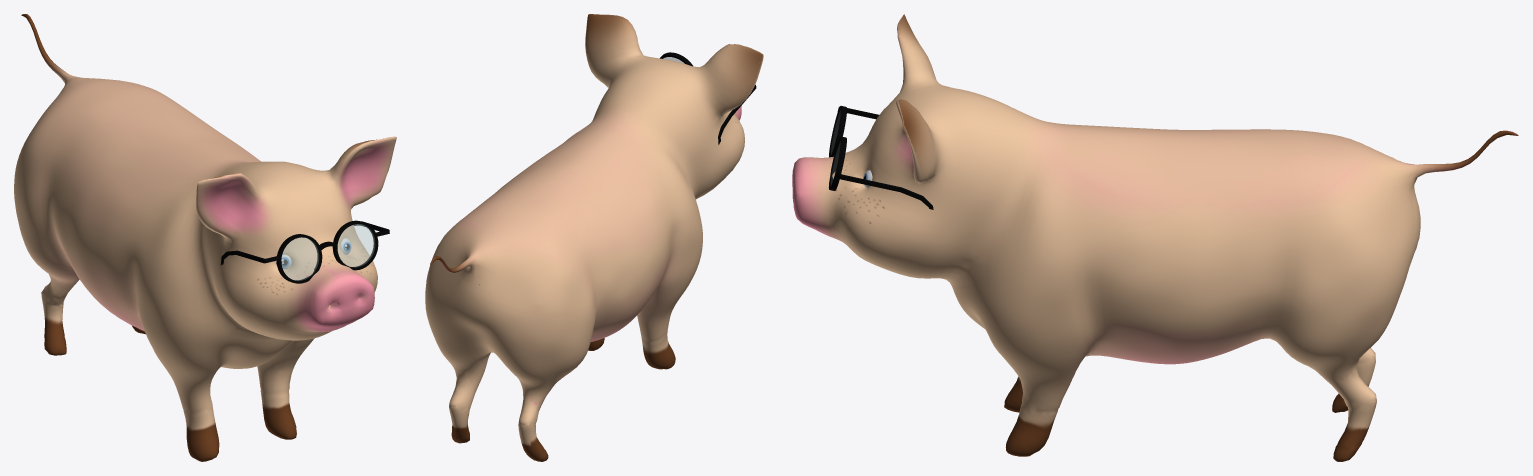
File: domuzgozluklu.fbx
The picture shows the model from 3 angles, left to right: view 1: azimuth 30°, elevation 25°; view 2: azimuth 150°, elevation 25°; view 3: azimuth 270°, elevation 25°; orthographic projection. The views are drawn at different scales.
Parts seen in each view (by area): view 1: Cube; view 2: Cube; view 3: Cube.
Part boxes in pixels (bbox=[...]): Cube: bbox=[14, 14, 396, 461]; Cube: bbox=[425, 14, 763, 461]; Cube: bbox=[792, 14, 1518, 461].
Size of the model in its own units: 68.83 by 110 by 196.
4 materials, 2 textured.
